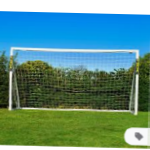goals: (8, 44, 141, 117)
